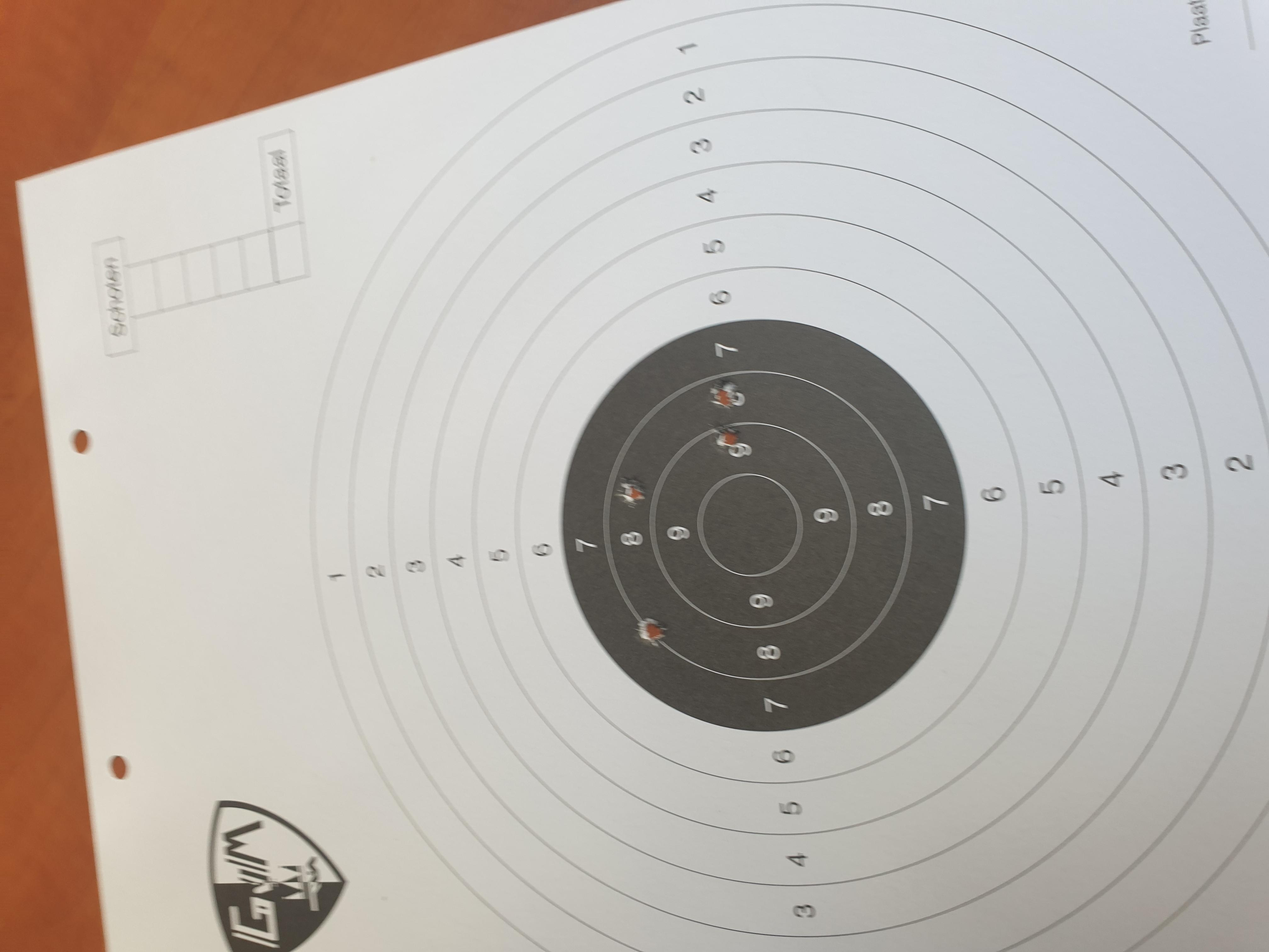hole: (590, 461, 637, 486), (661, 534, 706, 558), (404, 478, 448, 501), (722, 533, 766, 555)
